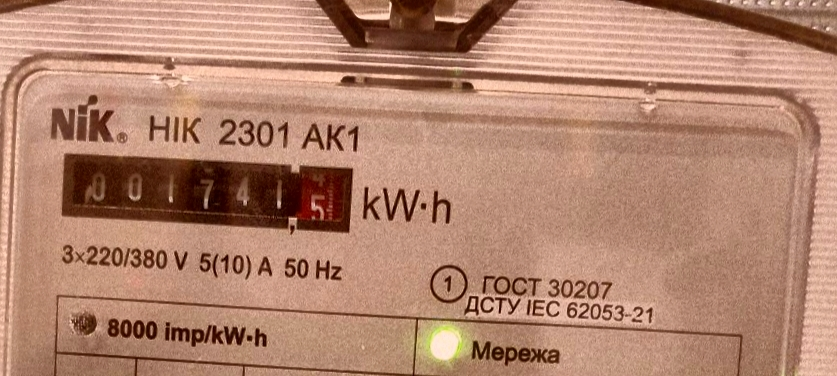0: (122, 169, 144, 204), (86, 170, 108, 204)
1: (158, 170, 178, 207), (268, 177, 286, 213)
4: (230, 173, 253, 209), (308, 170, 325, 189)
5: (304, 190, 326, 223)
7: (194, 175, 213, 211)
screen: (52, 141, 360, 244)
